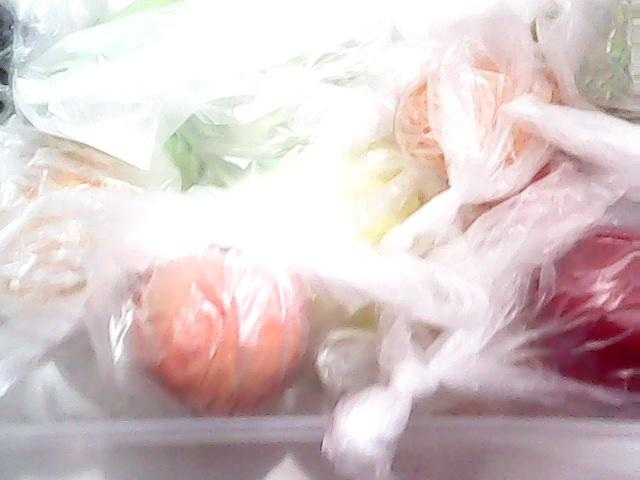apple: (500, 208, 640, 420)
lemon: (398, 63, 566, 197)
napa cabbage: (148, 118, 498, 298)
peach: (132, 246, 312, 418)
potato: (0, 133, 144, 302)
